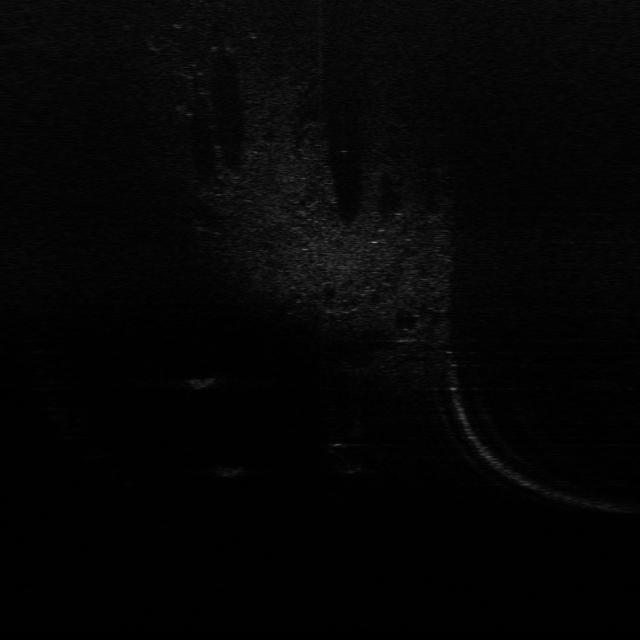cube: (212, 463, 247, 480)
square cage: (182, 371, 219, 391)
tyre: (321, 441, 367, 475)
